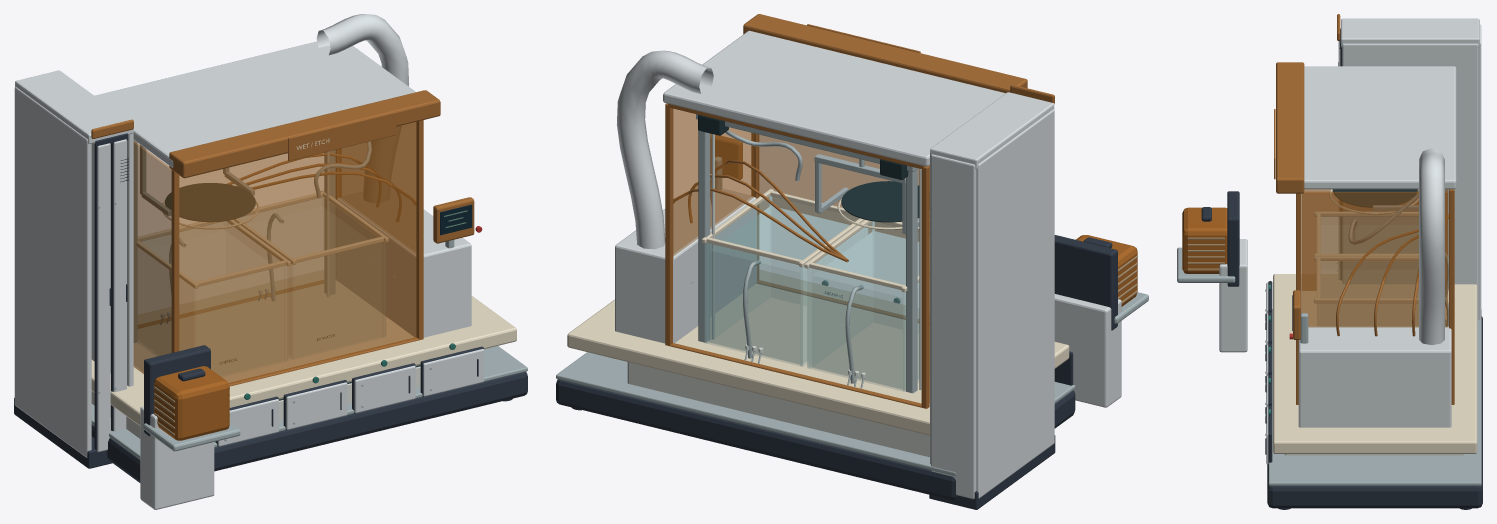
File: equipment-wetetch.glb
The picture shows the model from 3 angles, left to right: view 1: azimuth 30°, elevation 25°; view 2: azimuth 150°, elevation 25°; view 3: azimuth 270°, elevation 25°; orthographic projection. The views are drawn at different scales.
Parts seen in each view (by area): view 1: Front observation window, Side service skin, Acid resistant work deck, Bay filtered canopy, Extended chemical service trough, Segmented service plinth, Bath front inspection.003, Side observation window, Bath front inspection.001, Chemical hood top eyebrow, Side observation window.001, Independent load port base (+30 smaller); view 2: Acid resistant work deck, Side service skin, Bay filtered canopy, Rear utility enclosure, Extended chemical service trough, Segmented service plinth, Bath front inspection.002, Bath front inspection, Liquid illustration.001, Liquid illustration, Independent fume exhaust, Precision cabinet (+27 smaller); view 3: Bay filtered canopy, Acid resistant work deck, Side observation window.001, Extended chemical service trough, Side service skin.001, Raised deck edge, Segmented service plinth, Independent fume exhaust, Chemical hood top eyebrow, Filtered ceiling, Amber wafer transport pod, Independent load port base (+20 smaller).
Boxes of the visible parts, <box> form: Front observation window: <box>179,122,417,383</box>; Side service skin: <box>14,86,91,457</box>; Acid resistant work deck: <box>91,270,516,425</box>; Bay filtered canopy: <box>94,41,415,167</box>; Extended chemical service trough: <box>336,198,471,337</box>; Segmented service plinth: <box>91,371,527,482</box>; Bath front inspection.003: <box>295,243,381,356</box>; Side observation window: <box>133,141,171,373</box>; Bath front inspection.001: <box>197,267,283,375</box>; Chemical hood top eyebrow: <box>169,90,440,178</box>; Side observation window.001: <box>339,122,415,252</box>; Independent load port base: <box>140,406,214,509</box>; Acid resistant work deck: <box>567,270,1069,435</box>; Side service skin: <box>976,109,1054,498</box>; Bay filtered canopy: <box>663,30,1005,166</box>; Rear utility enclosure: <box>931,154,976,499</box>; Extended chemical service trough: <box>615,185,756,343</box>; Segmented service plinth: <box>556,379,1075,500</box>; Bath front inspection.002: <box>706,243,802,365</box>; Bath front inspection: <box>809,268,905,390</box>; Liquid illustration.001: <box>710,206,849,341</box>; Liquid illustration: <box>812,231,918,366</box>; Independent fume exhaust: <box>617,50,713,249</box>; Precision cabinet: <box>627,362,929,457</box>; Bay filtered canopy: <box>1304,66,1456,189</box>; Acid resistant work deck: <box>1273,274,1477,453</box>; Side observation window.001: <box>1302,191,1448,327</box>; Extended chemical service trough: <box>1298,326,1451,427</box>; Side service skin.001: <box>1342,43,1478,320</box>; Raised deck edge: <box>1268,309,1481,485</box>; Segmented service plinth: <box>1267,316,1482,508</box>; Independent fume exhaust: <box>1419,148,1444,344</box>; Chemical hood top eyebrow: <box>1276,62,1304,193</box>; Filtered ceiling: <box>1341,18,1479,47</box>; Amber wafer transport pod: <box>1182,207,1227,273</box>; Independent load port base: <box>1219,239,1247,352</box>.
Bounding box in the file's own units: 7.69 × 6.23 × 5.39.
